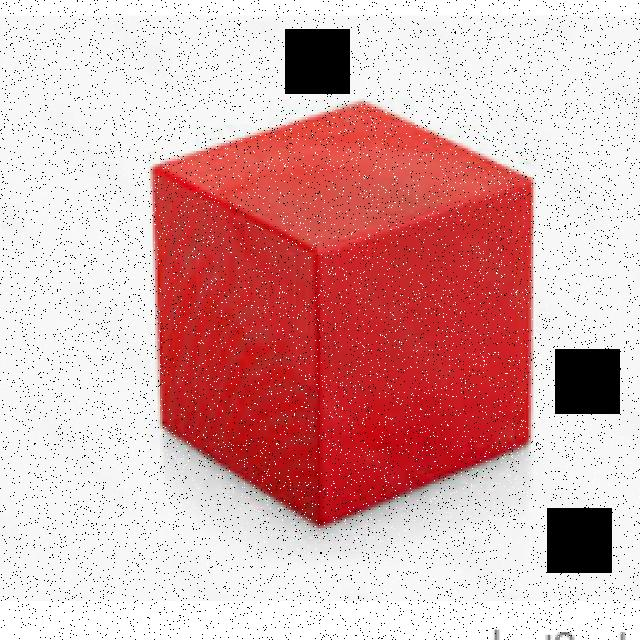red cube: (154, 98, 535, 531)
